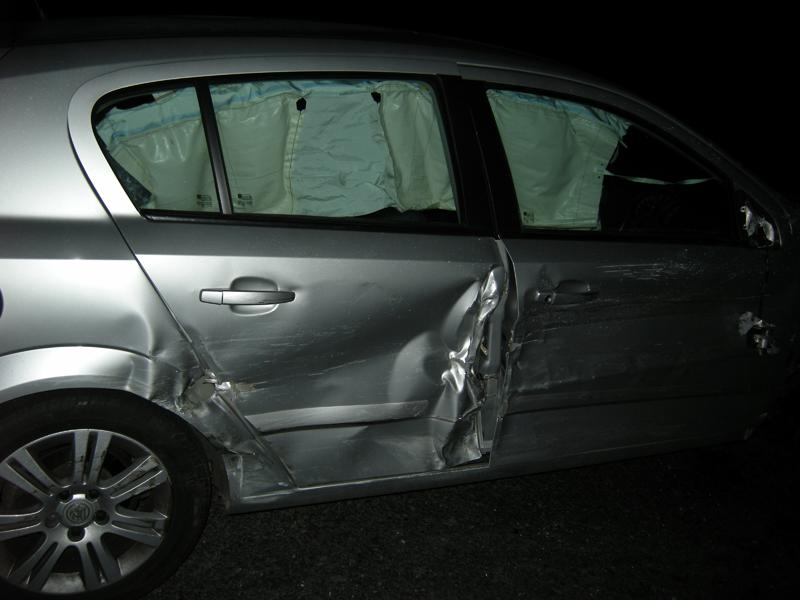doorouter-dent: (129, 226, 491, 481), (502, 229, 753, 463)
quaterpanel-dent: (0, 327, 262, 517)
